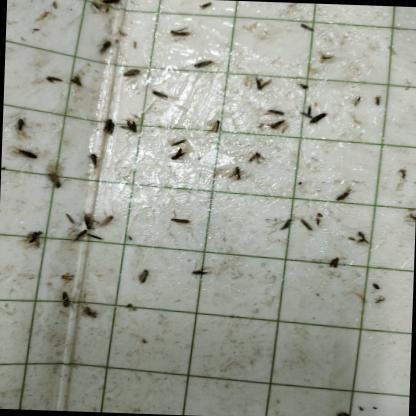prays_oleae: (150, 82, 170, 112), (166, 24, 190, 46), (98, 28, 115, 58), (168, 209, 192, 230), (45, 170, 65, 194), (334, 182, 352, 208), (310, 110, 330, 132), (251, 75, 269, 99), (277, 212, 295, 236), (298, 214, 316, 238), (98, 0, 123, 17), (45, 69, 66, 89), (14, 146, 42, 161), (120, 115, 140, 136), (58, 288, 74, 314), (86, 150, 102, 175), (70, 70, 86, 94), (122, 64, 142, 83), (24, 226, 45, 244), (169, 146, 187, 167), (102, 115, 116, 141), (245, 151, 264, 170), (227, 164, 242, 188), (190, 264, 210, 282), (192, 58, 213, 75), (82, 210, 98, 232), (208, 117, 221, 144), (82, 304, 98, 325), (72, 227, 89, 246), (60, 208, 77, 226), (99, 211, 116, 229), (352, 230, 368, 249), (266, 119, 288, 132), (266, 106, 286, 120), (313, 208, 325, 231), (13, 118, 28, 134), (330, 406, 354, 416), (137, 266, 150, 284), (371, 277, 384, 295), (170, 135, 187, 148), (330, 252, 340, 268)
